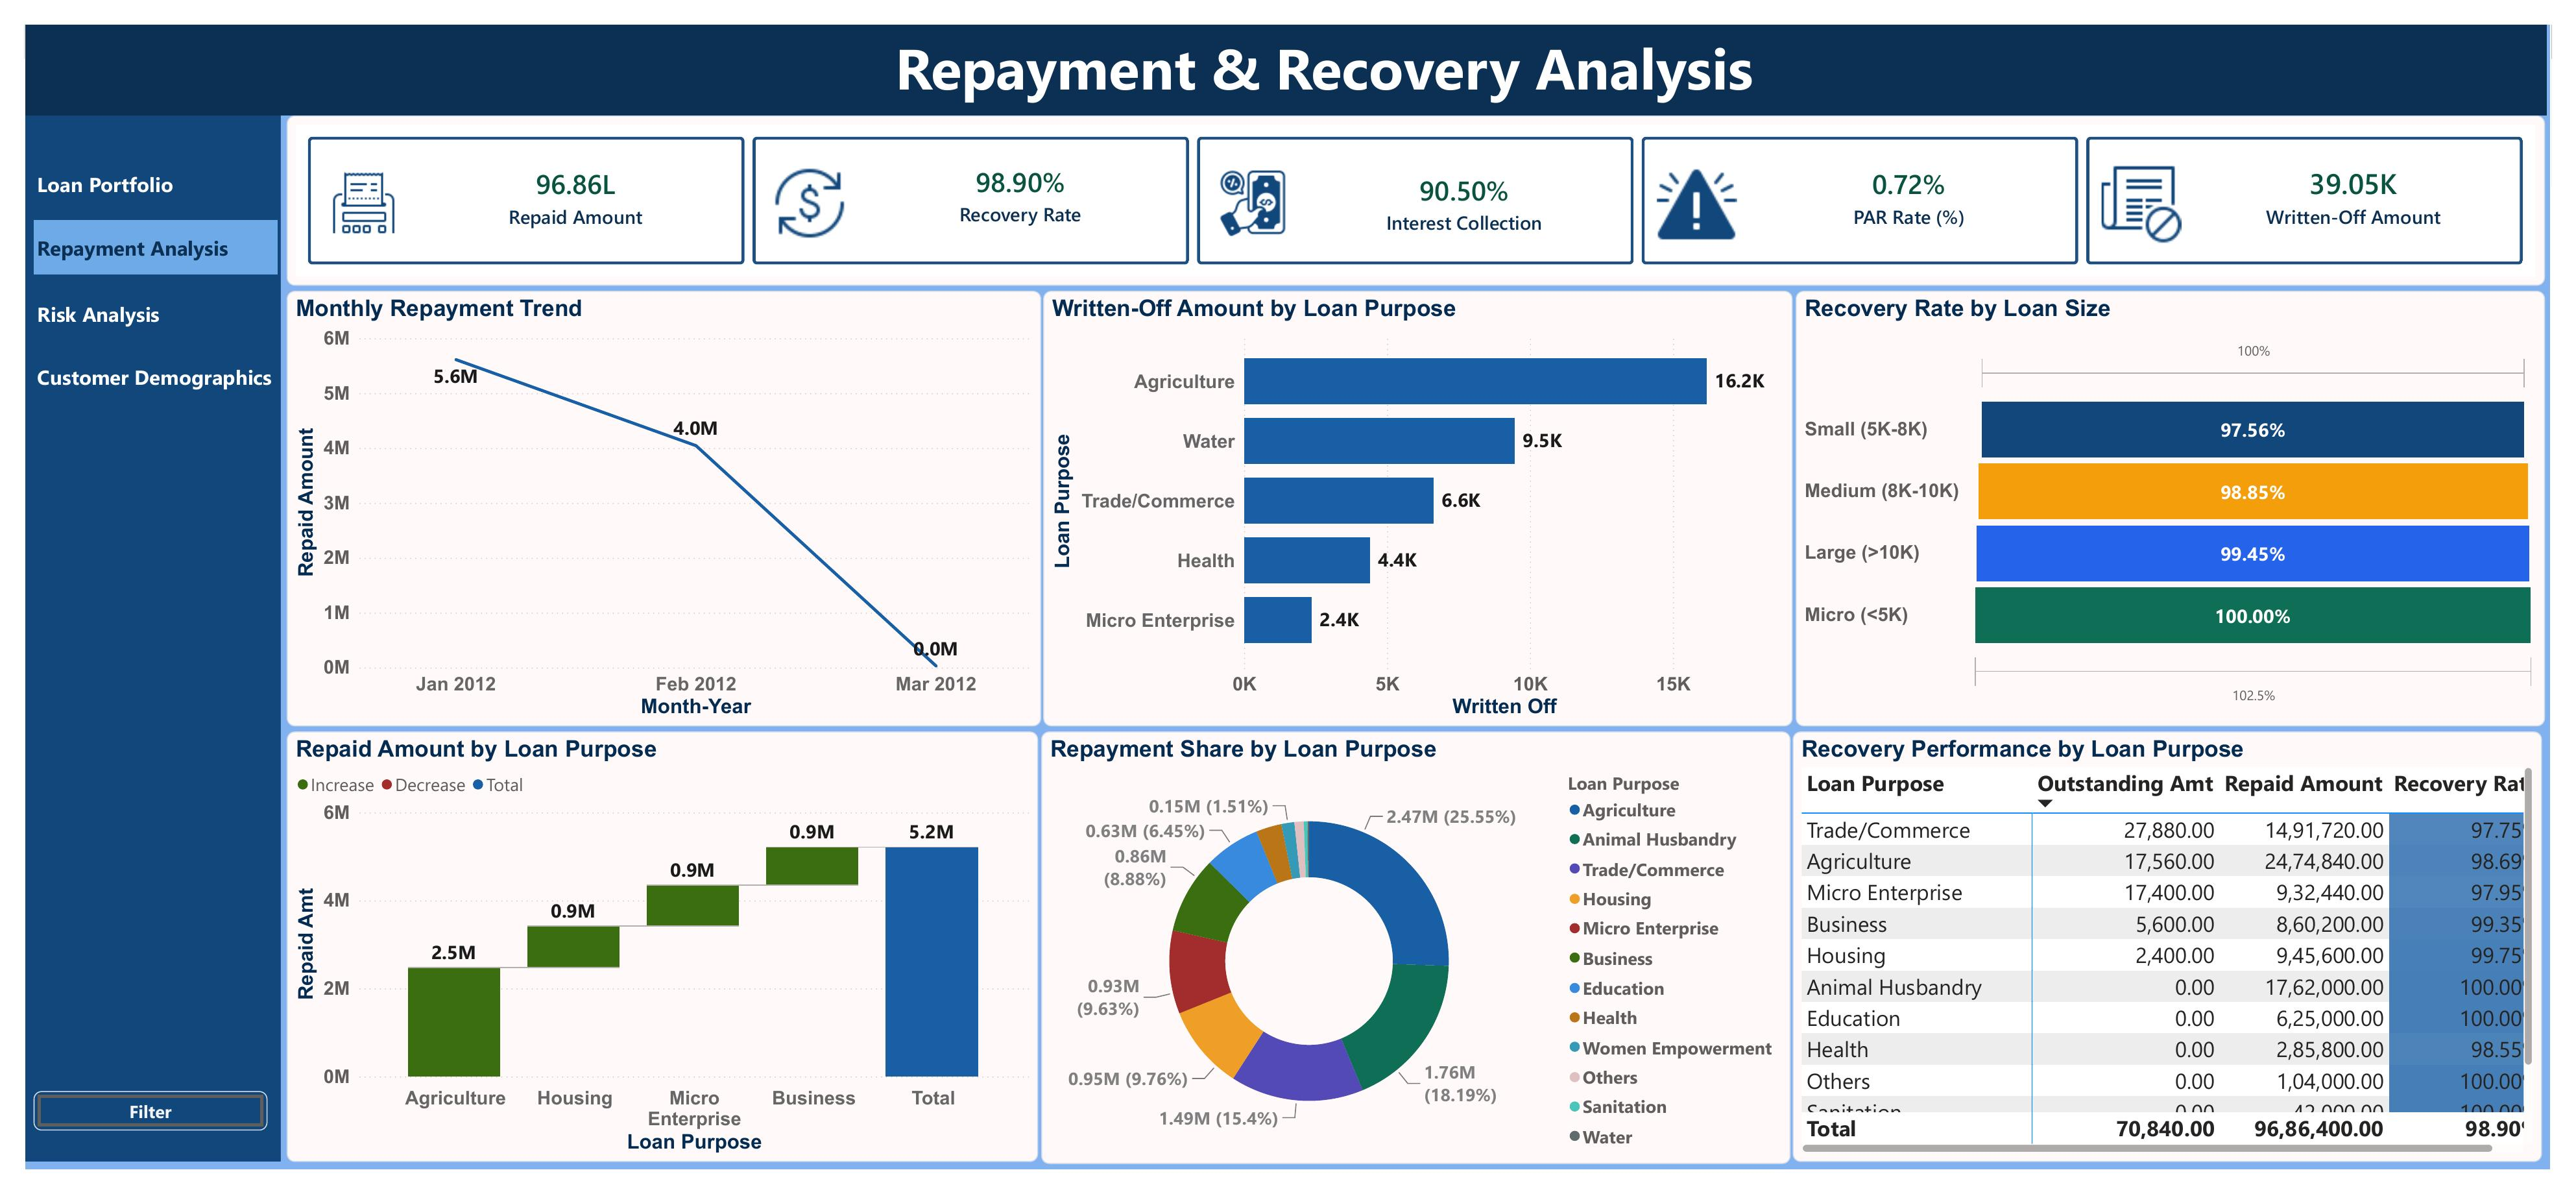

Layout of this report page (visuals, bound fields, positions):
{"tool":"powerbi","page":{"name":"Repayment_Analysis","canvas":[2493,1130],"ordinal":1},"visuals":[{"type":"lineChart","title":"Monthly Repayment Trend","fields":{"Category":["date_dim.Month Year"],"Y":["loan_portfolio.Total_Repaid"]},"box":[257.5,262.5,745,430],"z":0},{"type":"cardVisual","fields":{"Data":["loan_portfolio.Total Repaid","loan_portfolio.Principal Recovery Rate %","loan_portfolio.Interest Collection Rate %","loan_portfolio.PAR Rate %","loan_portfolio.Total Written Off"]},"box":[257.5,90,2230,167.5],"z":1000},{"type":"funnel","title":"Recovery Rate by Loan Size","fields":{"Category":["loan_fact.amount_segment"],"Y":["loan_portfolio.Principal Recovery Rate %"]},"box":[1747.5,262.5,740,430],"z":2000},{"type":"waterfallChart","title":"Repaid Amount by Loan Purpose","fields":{"Category":["loan_fact.loan_purpose_label"],"Y":["loan_portfolio.Total_Repaid"]},"box":[257.5,697.5,742.5,425],"z":3000},{"type":"pivotTable","title":"Recovery Performance by Loan Purpose","fields":{"Values":["loan_portfolio.Total Outstanding","loan_portfolio.Total_Repaid","loan_portfolio.Principal Recovery Rate %"],"Rows":["loan_fact.loan_purpose_label"]},"box":[1745,697.5,740,425],"z":4000},{"type":"clusteredBarChart","title":"Written-Off Amount by Loan Purpose","fields":{"Category":["loan_fact.loan_purpose_label"],"Y":["Sum(loan_fact.total_writtenoff)"]},"box":[1005.7,261.4,740,430],"z":5000},{"type":"donutChart","title":"Repayment Share by Loan Purpose","fields":{"Y":["Sum(loan_fact.principal_repaid)"],"Category":["loan_fact.loan_purpose_label"]},"box":[1002.5,697.5,740,427.5],"z":6000},{"type":"shape","box":[0,0,2490,90],"z":7000},{"type":"textbox","box":[0,0,2494,96],"z":8000},{"type":"shape","box":[0,90,252,1032],"z":9000},{"type":"actionButton","box":[8,130,241,54],"z":10000},{"type":"actionButton","box":[7.8,193.3,241,54],"z":11000},{"type":"actionButton","box":[7.8,257.8,241,54],"z":12000},{"type":"actionButton","box":[7.8,320,241,54],"z":13000},{"type":"actionButton","box":[7.5,1057.5,232.5,60],"z":14000}]}

Visuals, with their boxes on the page's 2493x1130 design canvas (x1, y1, x2, y2). These are canvas units, not pixel positions in the 2576x1194 screenshot, which may show the page scaled, cropped or inside an application window:
"Monthly Repayment Trend" lineChart: x1=258 y1=262 x2=1002 y2=692
cardVisual - loan_portfolio.Total Repaid x loan_portfolio.Principal Recovery Rate %: x1=258 y1=90 x2=2488 y2=258
"Recovery Rate by Loan Size" funnel: x1=1748 y1=262 x2=2488 y2=692
"Repaid Amount by Loan Purpose" waterfallChart: x1=258 y1=698 x2=1000 y2=1122
"Recovery Performance by Loan Purpose" pivotTable: x1=1745 y1=698 x2=2485 y2=1122
"Written-Off Amount by Loan Purpose" clusteredBarChart: x1=1006 y1=261 x2=1746 y2=691
"Repayment Share by Loan Purpose" donutChart: x1=1002 y1=698 x2=1742 y2=1125
shape: x1=0 y1=0 x2=2490 y2=90
textbox: x1=0 y1=0 x2=2494 y2=96
shape: x1=0 y1=90 x2=252 y2=1122
actionButton: x1=8 y1=130 x2=249 y2=184
actionButton: x1=8 y1=193 x2=249 y2=247
actionButton: x1=8 y1=258 x2=249 y2=312
actionButton: x1=8 y1=320 x2=249 y2=374
actionButton: x1=8 y1=1058 x2=240 y2=1118
